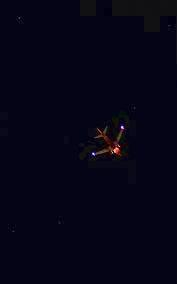Plane: (67, 101, 142, 169)
